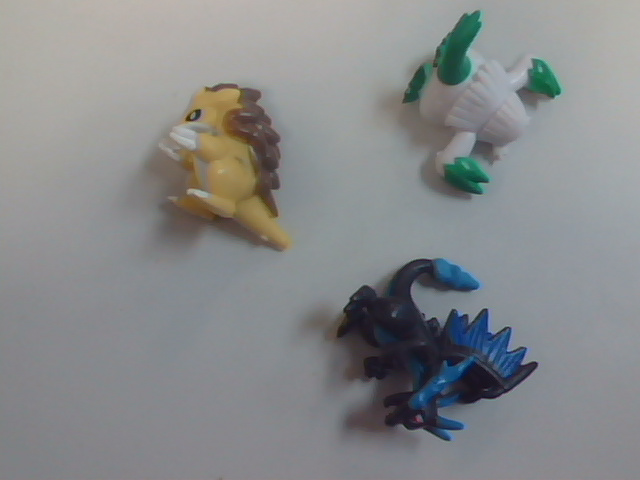abomasnow: (372, 10, 584, 209)
charizard: (336, 257, 556, 466)
sandslash: (148, 66, 330, 261)
